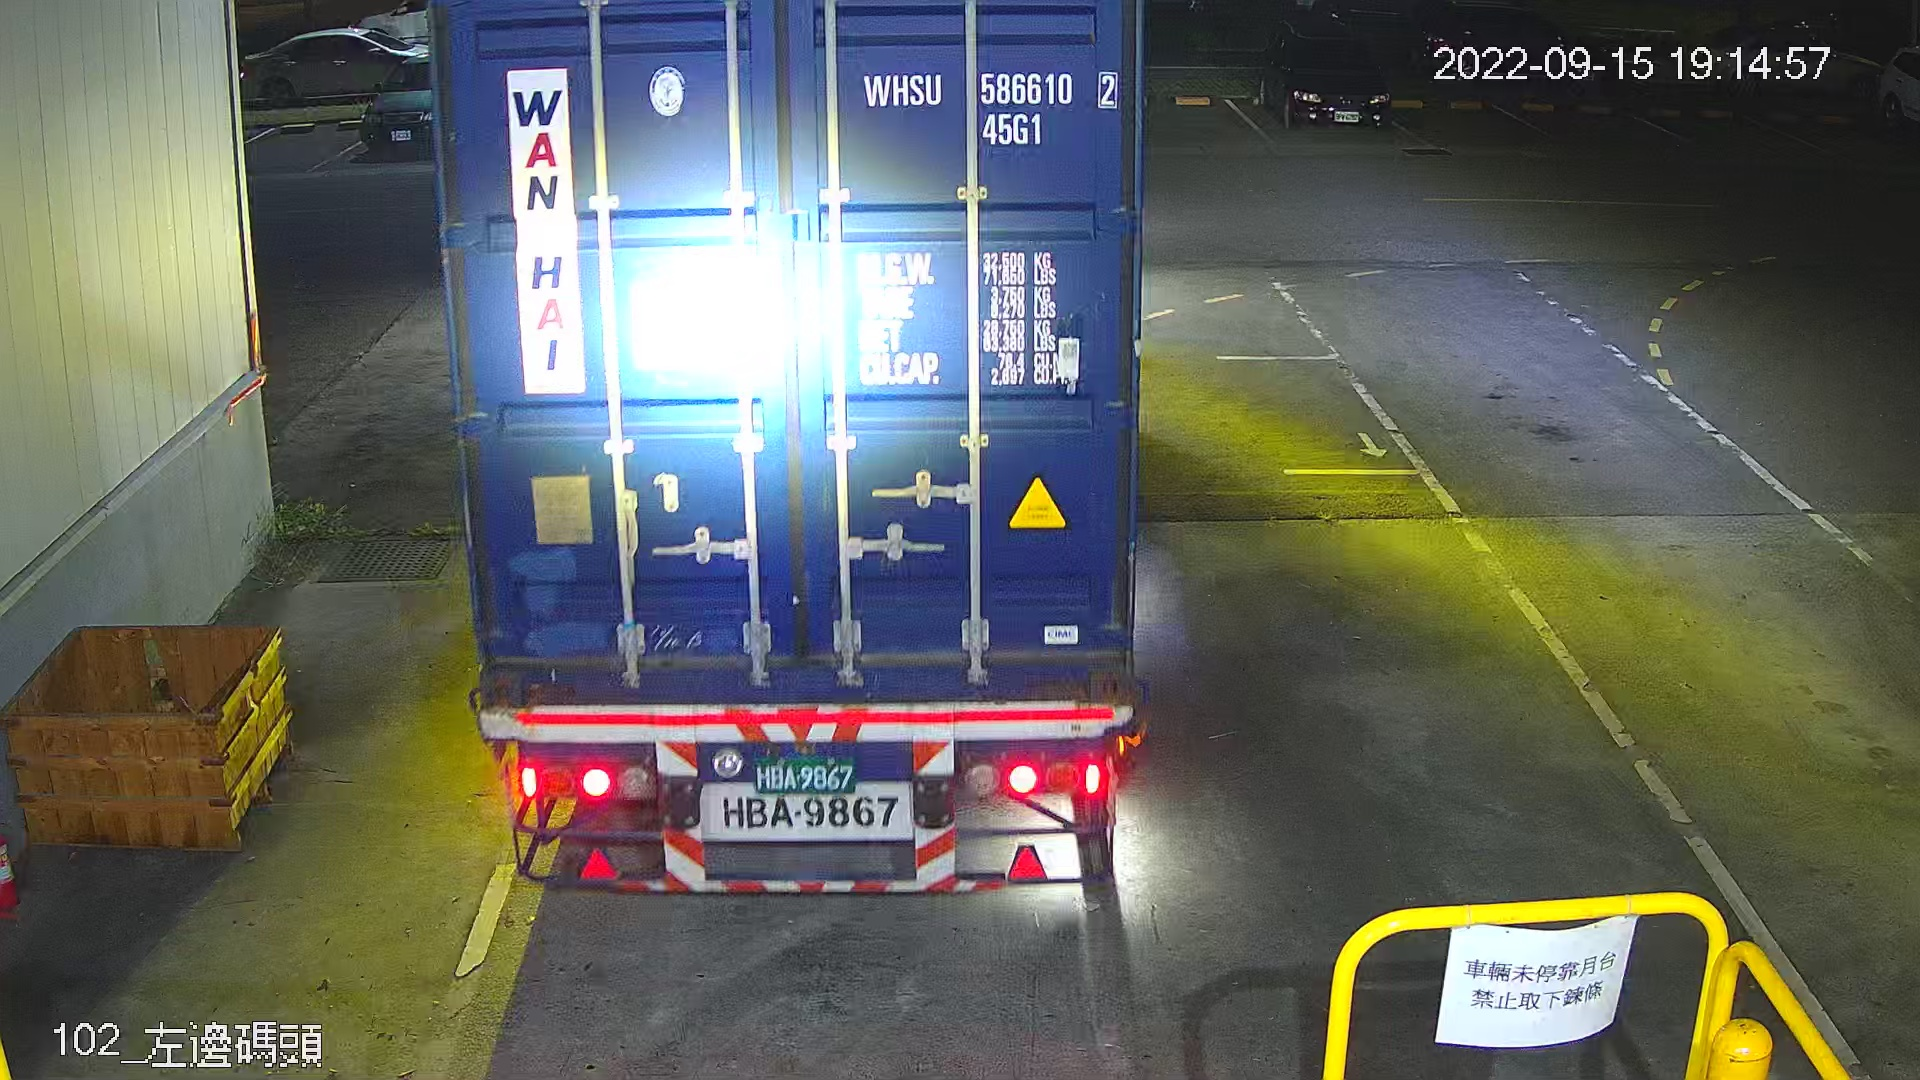container: (857, 65, 1127, 156)
